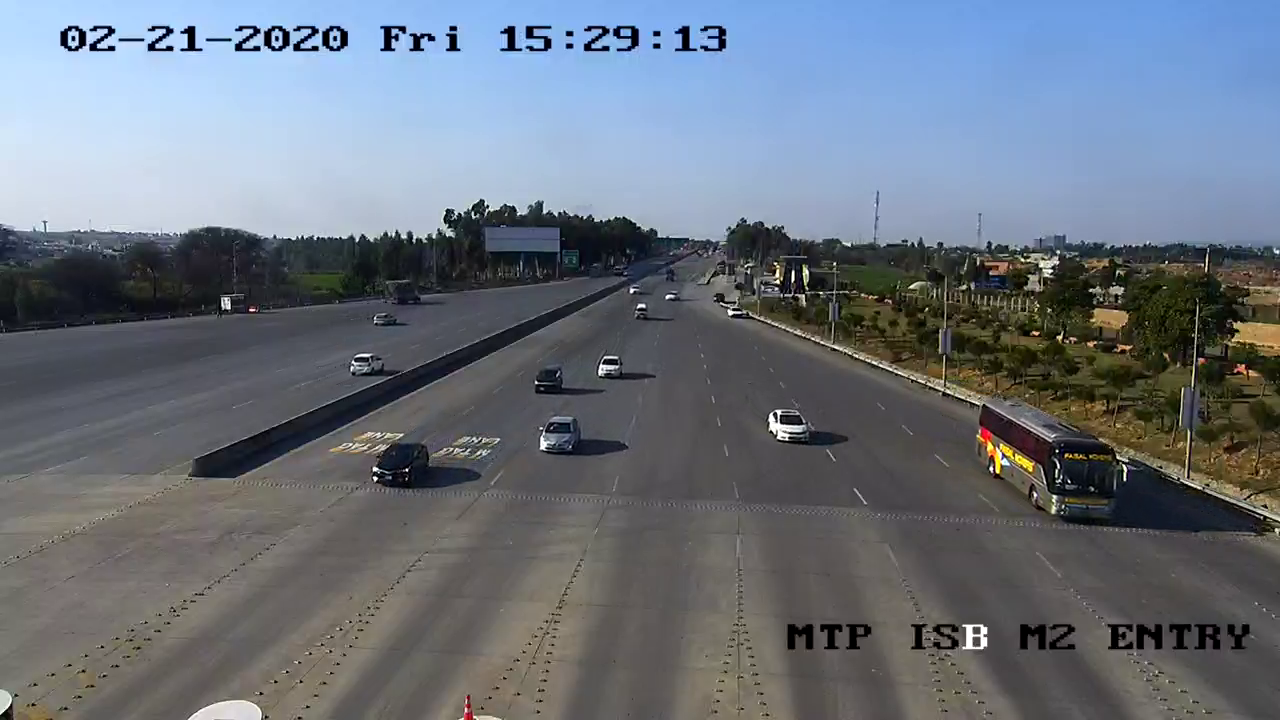f1: (363, 434, 440, 494), (531, 406, 588, 465), (763, 401, 817, 452)
f4: (965, 381, 1137, 540)
